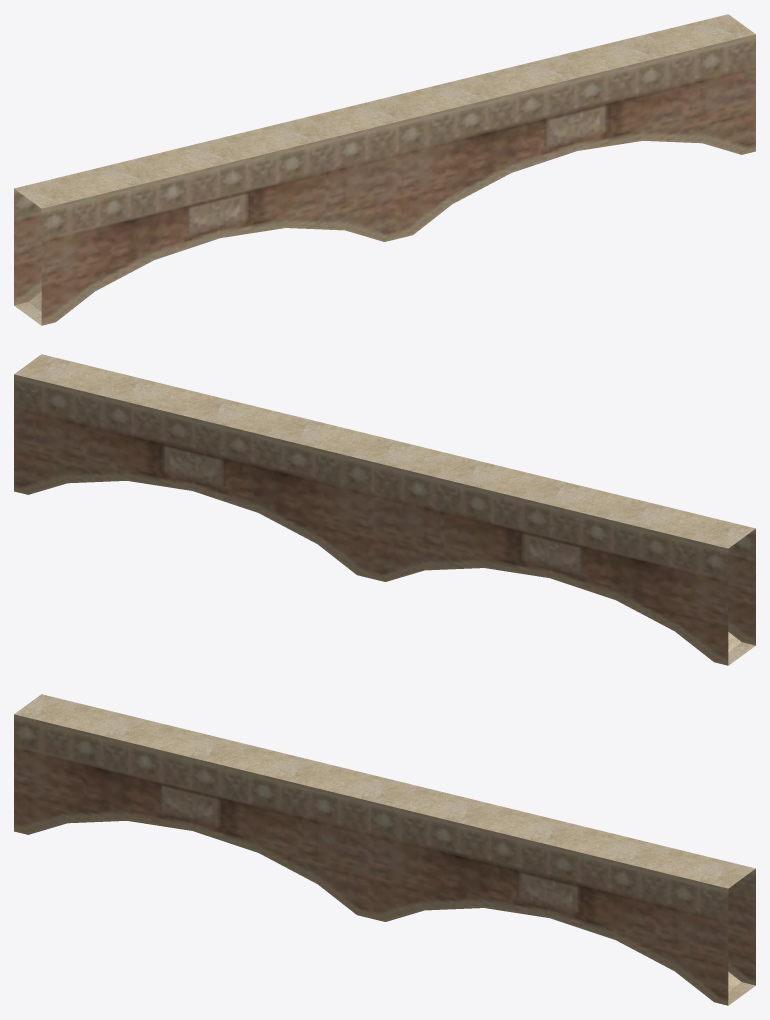
The model's file is thm_nboo_imprv_archway_wide_s01_l2.fbx.
3 views of the same model, one above another, from view 1: azimuth 30°, elevation 25°; view 2: azimuth 150°, elevation 25°; view 3: azimuth 330°, elevation 25° (orthographic).
Visible parts, largest first — view 1: mesh_node; view 2: mesh_node; view 3: mesh_node.
Boxes of the visible parts, left/top/right/bottom form: mesh_node: left=14, top=14, right=755, bottom=325; mesh_node: left=14, top=354, right=755, bottom=665; mesh_node: left=14, top=694, right=755, bottom=1005.
Bounding box in the file's own units: 16 × 2.51 × 1.07.
